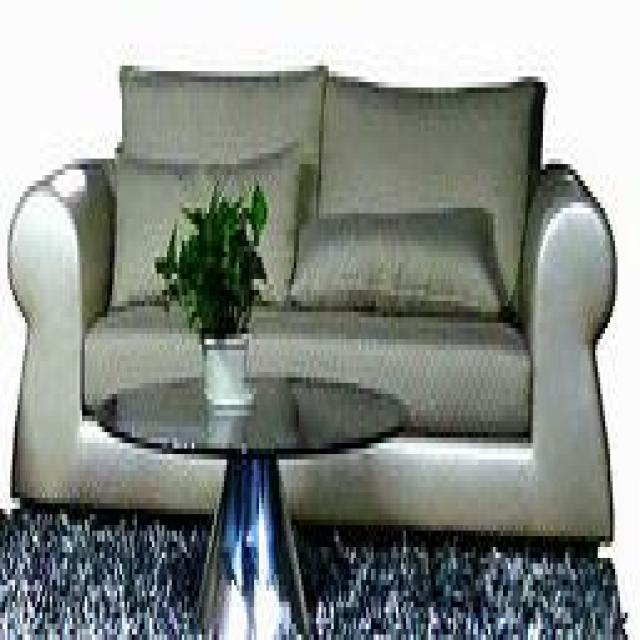sofa: (7, 63, 616, 559)
